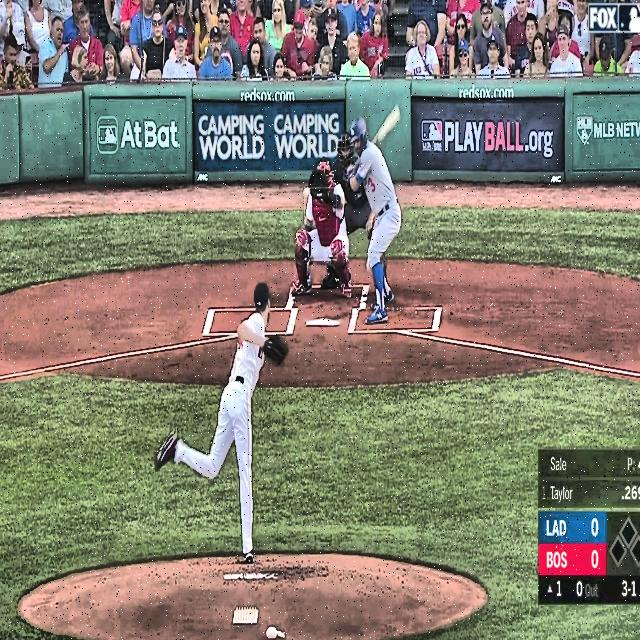baseball: (304, 188, 310, 196)
